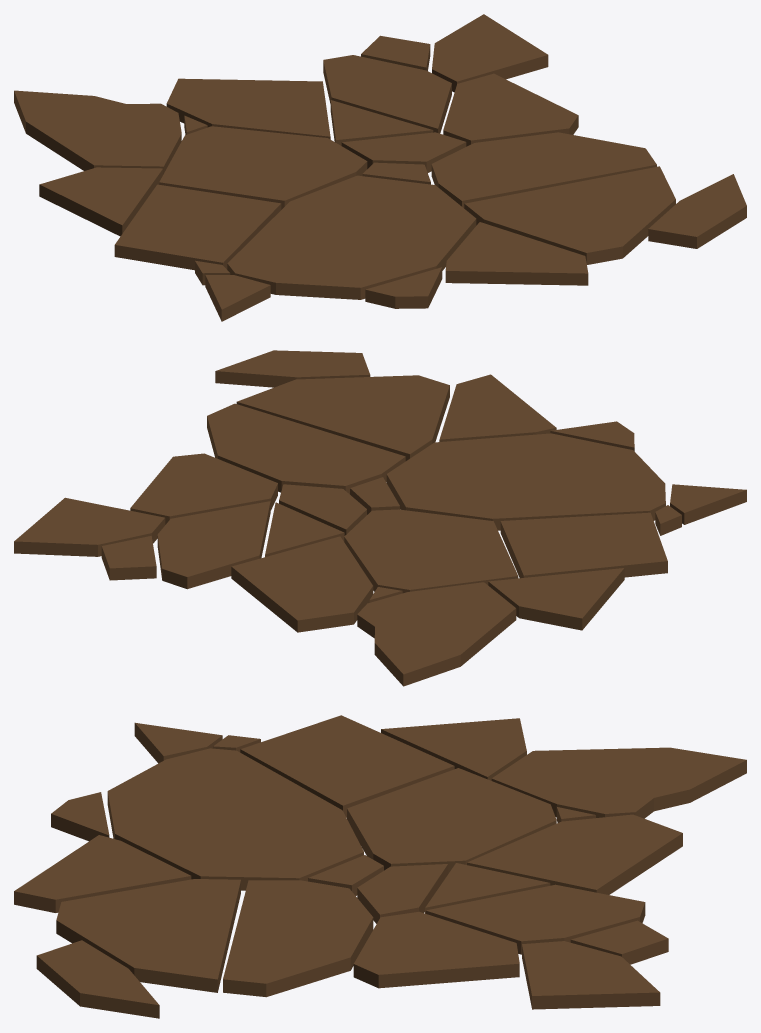
File: ground-cracked.b17ac086.glb
3 views of the same model, one above another, from view 1: azimuth 30°, elevation 25°; view 2: azimuth 150°, elevation 25°; view 3: azimuth 270°, elevation 25° (orthographic). The views are drawn at different scales.
Visible parts, largest first — view 1: ground-cracked; view 2: ground-cracked; view 3: ground-cracked.
Boxes of the visible parts, left/top/right/bottom form: ground-cracked: left=14, top=14, right=746, bottom=321; ground-cracked: left=14, top=350, right=746, bottom=686; ground-cracked: left=14, top=715, right=746, bottom=1018.
Bounding box in the file's own units: 4.66 × 0.1007 × 4.98.
